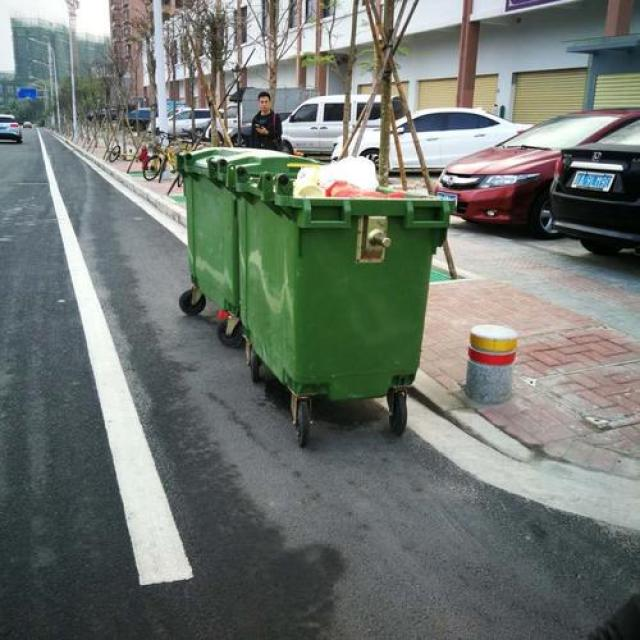garbage_bin: (175, 146, 311, 308)
overflow: (237, 156, 450, 401)
